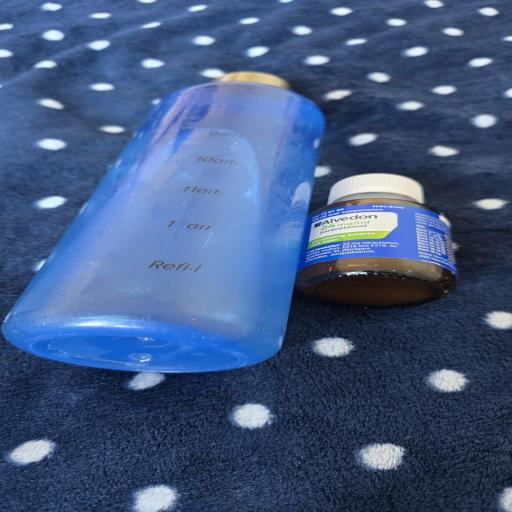bottle: (13, 54, 304, 371)
